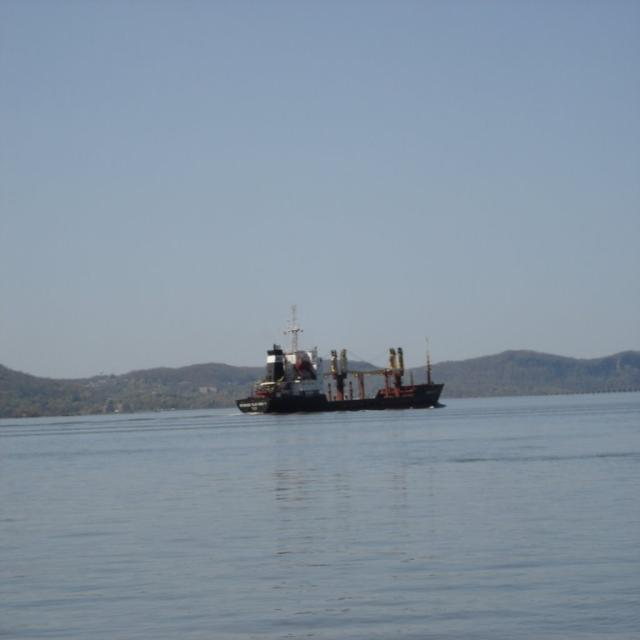cargoship: (240, 326, 447, 414)
